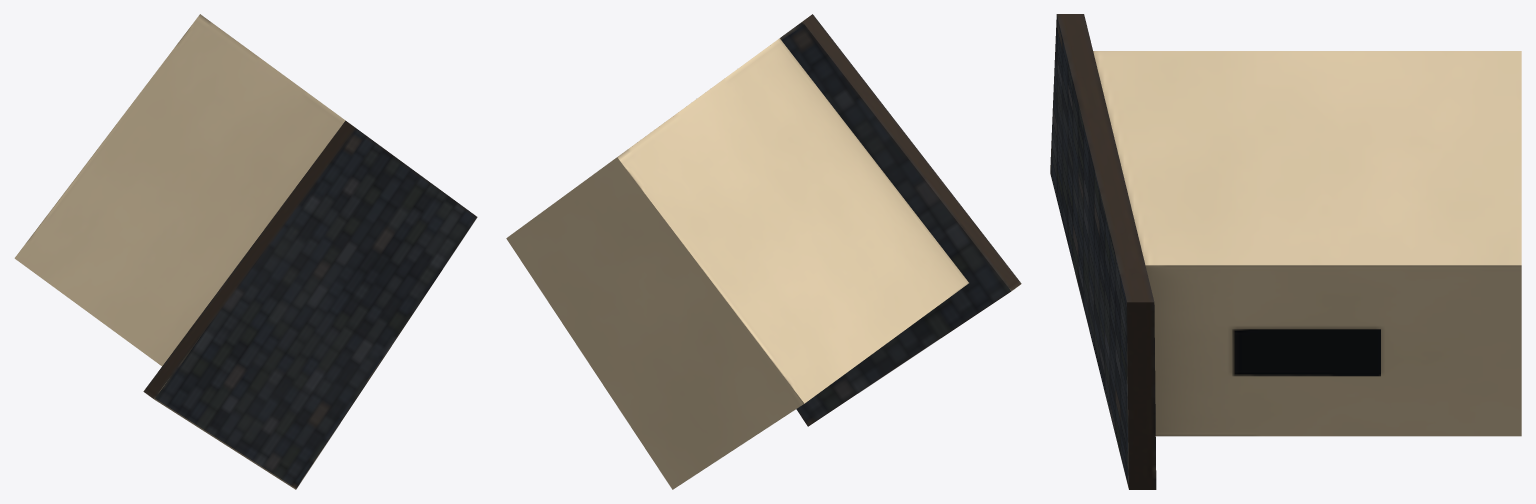
Rendered from house_b0506.obj.
3 renders of one model, left to right at view 1: azimuth 30°, elevation 25°; view 2: azimuth 150°, elevation 25°; view 3: azimuth 270°, elevation 25°, orthographic. The views are drawn at different scales.
Visible parts, largest first — view 1: house_b0506; view 2: house_b0506; view 3: house_b0506.
Boxes of the visible parts, x1=… form: house_b0506: x1=14, y1=14, x2=477, y2=489; house_b0506: x1=506, y1=14, x2=1021, y2=489; house_b0506: x1=1050, y1=14, x2=1521, y2=489.
Bounding box in the file's own units: 4.75 × 4.81 × 4.13.
1 material, 1 textured.
